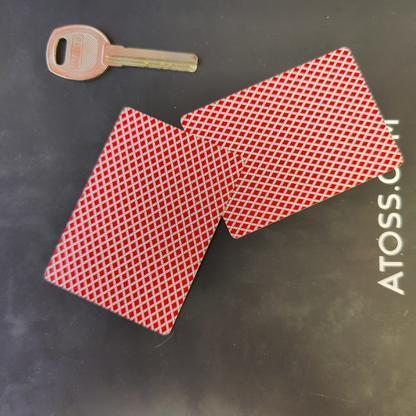card: (40, 95, 232, 352), (175, 45, 407, 244)
